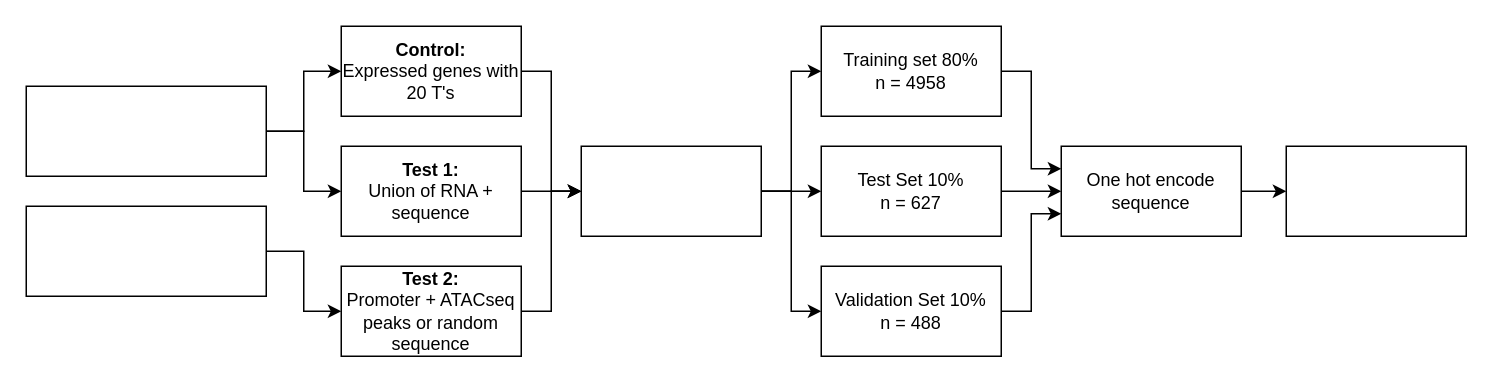
Some shapes in this 1493 by 383 pixel diagram are drawn without their labels. Here are the shapes that lost their labels. From the top down, the centre of each, then its label:
(145,130): Single 250 bp ATAC-seq peak within 10Kb of a gene n = 48k
(670,190): max cis-RNA expression by gene
(1375,190): Build DanQ Model & Fit
(145,250): Multiple ATAC-seq peaks within 10Kb of a gene and gene's promoter
